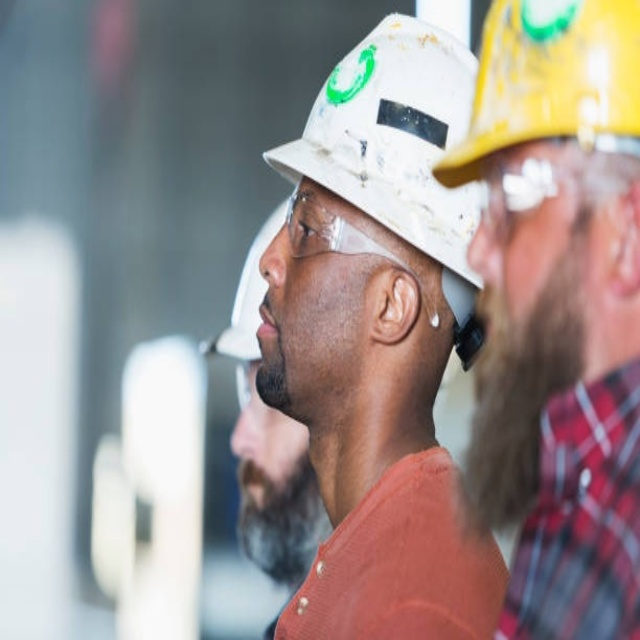Gafas: (277, 180, 444, 329), (481, 151, 632, 231)
Sin_mascara: (460, 238, 524, 380), (229, 430, 283, 535), (252, 278, 288, 400)
